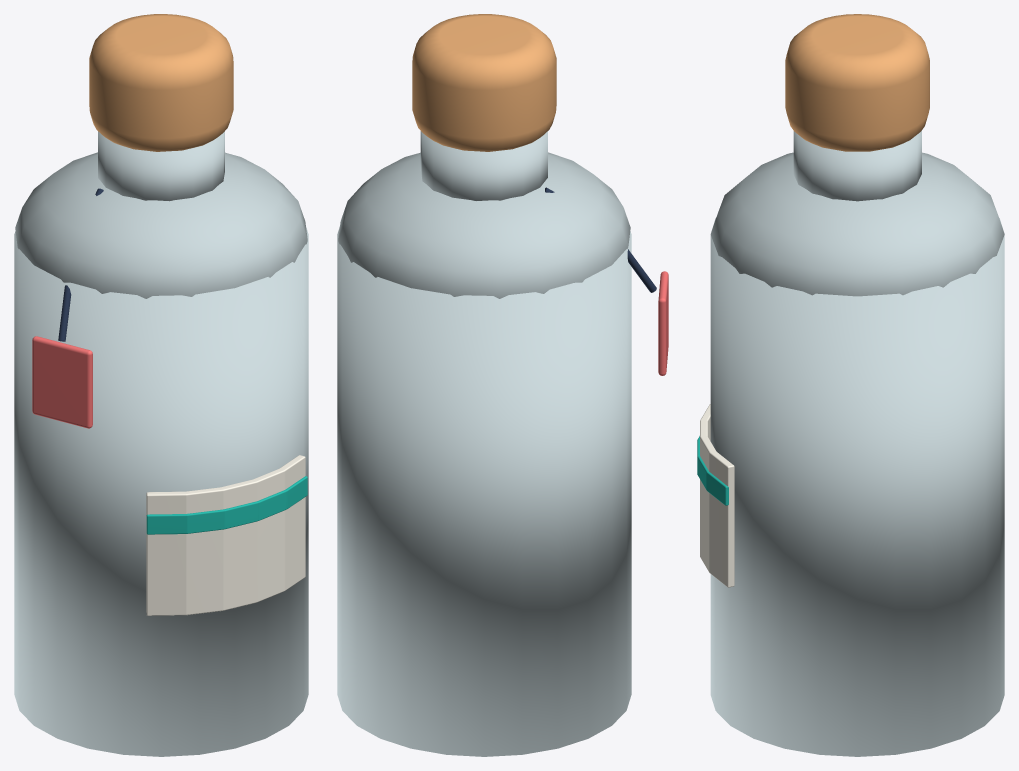
The model's file is VialBottle.fbx.
The picture shows the model from 3 angles, left to right: view 1: azimuth 30°, elevation 25°; view 2: azimuth 150°, elevation 25°; view 3: azimuth 270°, elevation 25°; orthographic projection.
Parts seen in each view (by area): view 1: VialBottle mesh; view 2: VialBottle mesh; view 3: VialBottle mesh.
Part boxes in pixels (x1,y1,x2,y2): VialBottle mesh: (14, 14, 308, 756); VialBottle mesh: (337, 14, 668, 756); VialBottle mesh: (697, 14, 1004, 756).
Size of the model in its own units: 0.1219 by 0.272 by 0.115.
